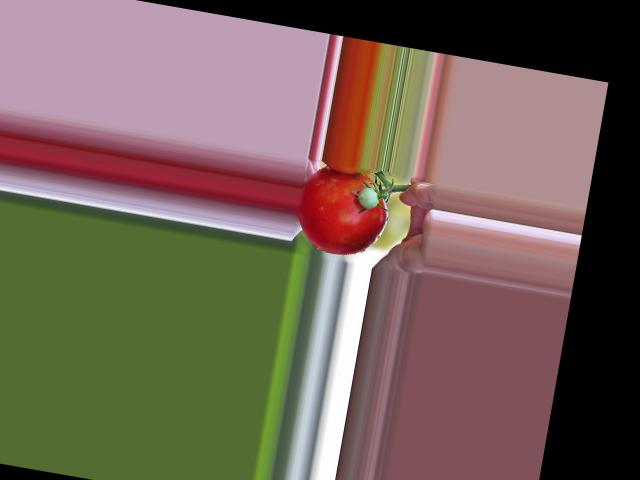tomato: (290, 162, 395, 261)
